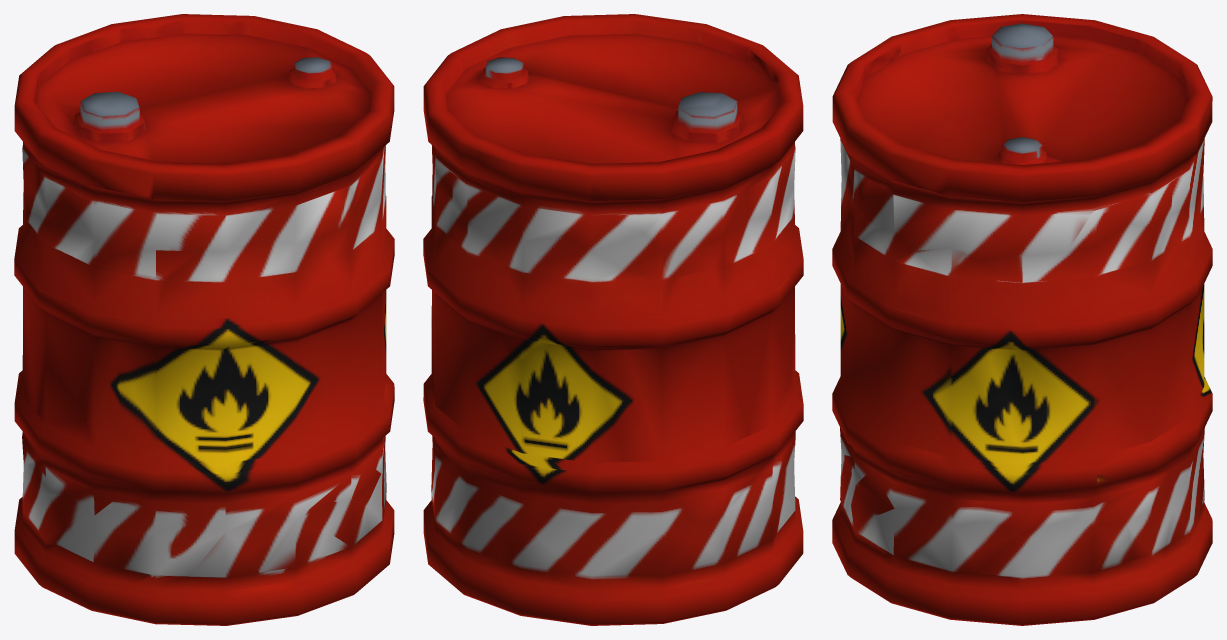
Rendered from RedBarrel.fbx.
3 views of the same model, side by side, from view 1: azimuth 30°, elevation 25°; view 2: azimuth 150°, elevation 25°; view 3: azimuth 270°, elevation 25° (orthographic).
Visible parts, largest first — view 1: node_0; view 2: node_0; view 3: node_0.
Part boxes in pixels (left/top/right/bottom): node_0: left=14, top=14, right=394, bottom=625; node_0: left=423, top=14, right=803, bottom=625; node_0: left=832, top=14, right=1212, bottom=625.
Bounding box in the file's own units: 72.22 × 97.1 × 71.87.
1 material, 1 textured.
